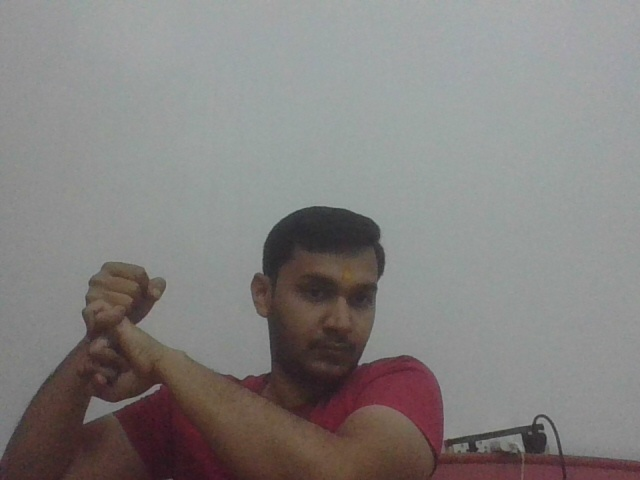S: (75, 258, 170, 403)
